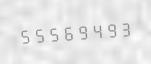five: (17, 24, 30, 47), (31, 23, 44, 46), (45, 22, 58, 45)
four: (87, 19, 100, 42)
nine: (73, 20, 86, 43), (101, 18, 114, 41)
six: (59, 21, 72, 44)
three: (115, 17, 128, 40)
